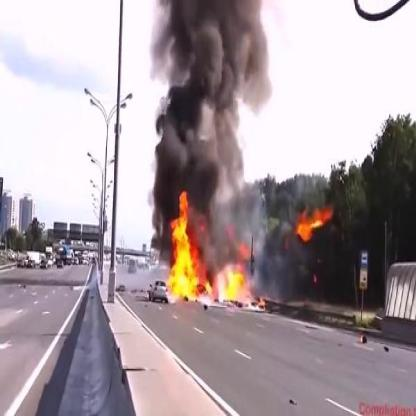fire: (165, 187, 214, 305), (293, 201, 337, 245), (217, 261, 254, 312), (258, 294, 265, 314)
